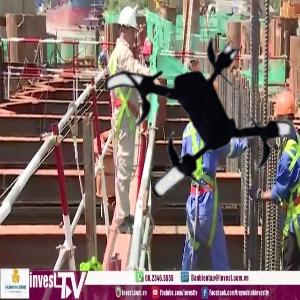drone: (94, 26, 290, 222)
